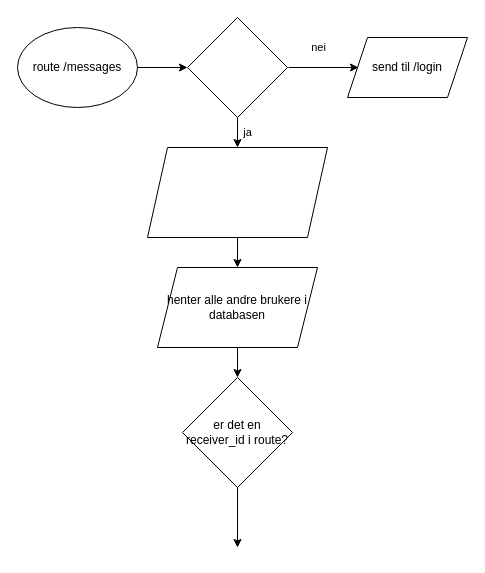
The diagram is 485 pixels wide and 573 high, and some of its shapes have lost their labels. Here are the shapes that lost their labels. From the top down, the box of each, then its label:
(186, 16, 288, 118): Er det er bruker i session?
(146, 146, 328, 238): henter alle brukere som har send eller fått en melding fra deg
